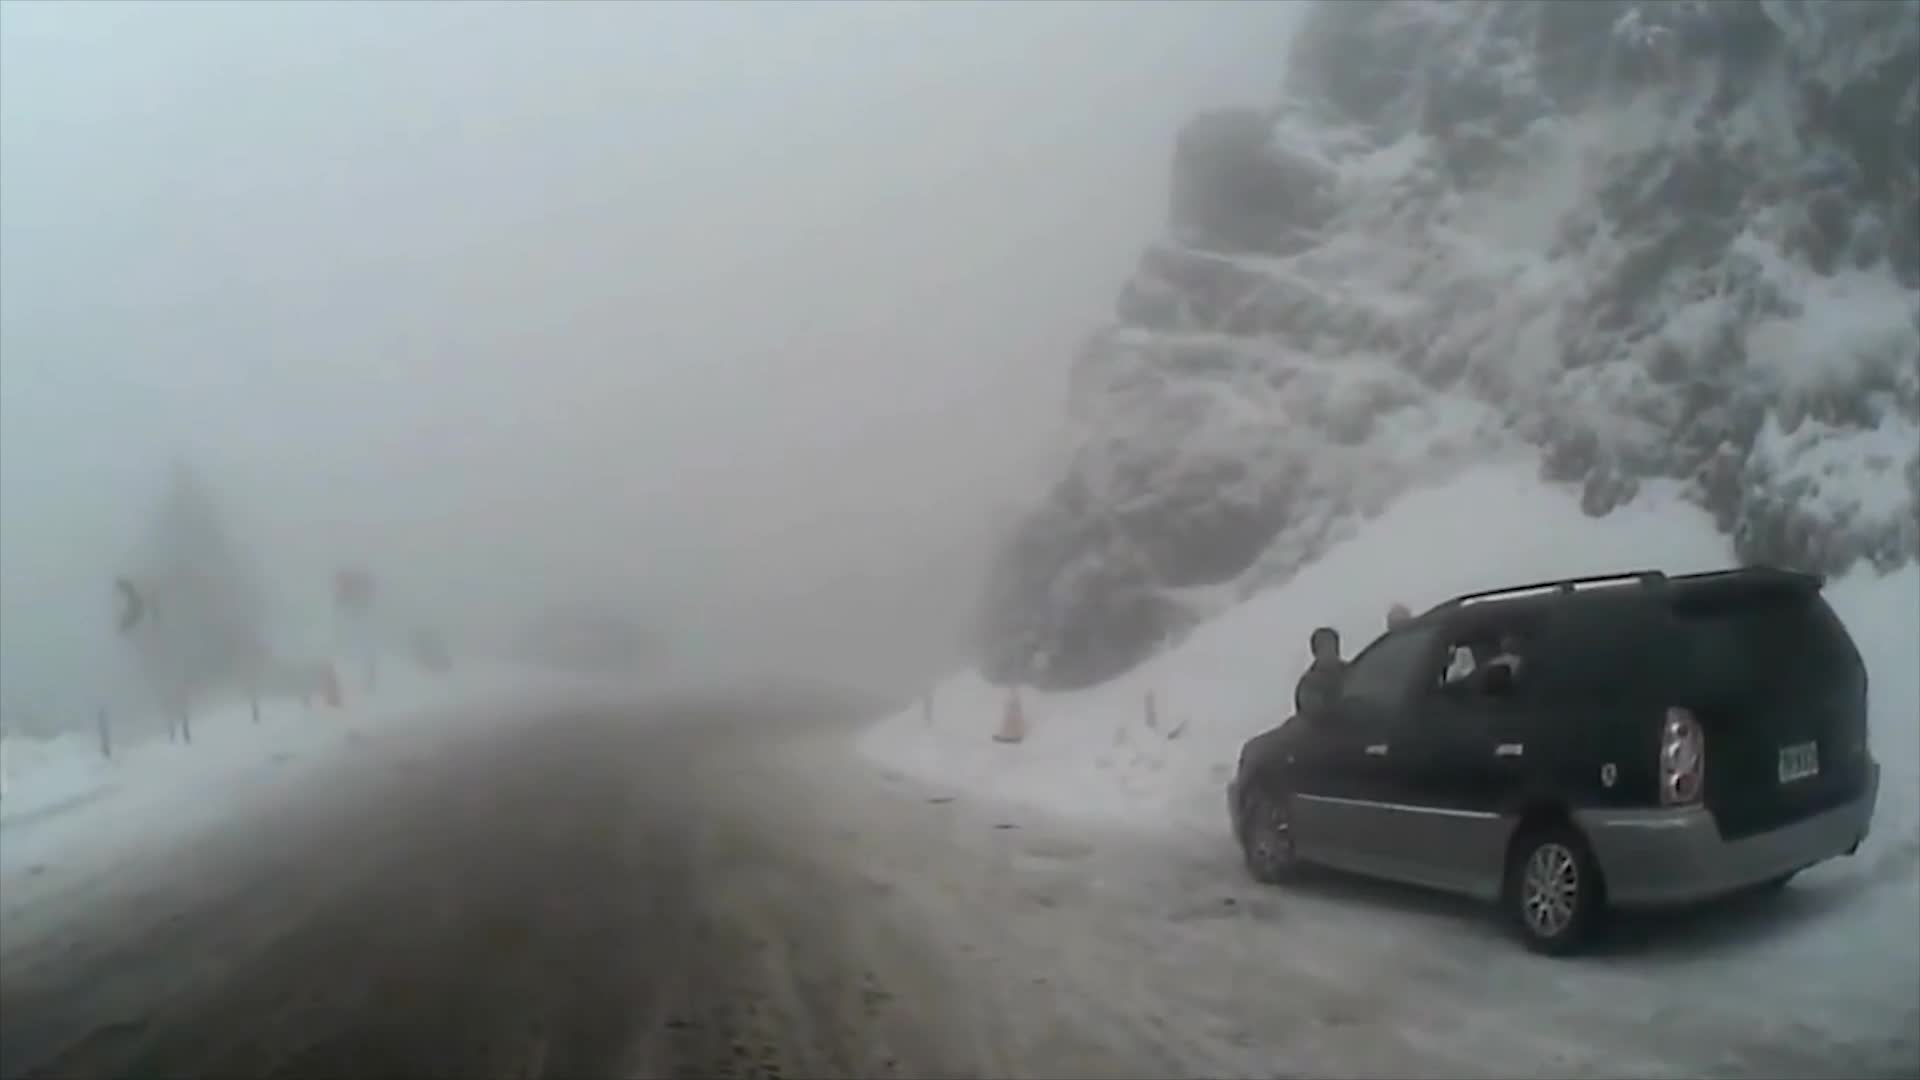pedestrian: (1289, 622, 1355, 844)
vehicle: (1225, 560, 1880, 954)
